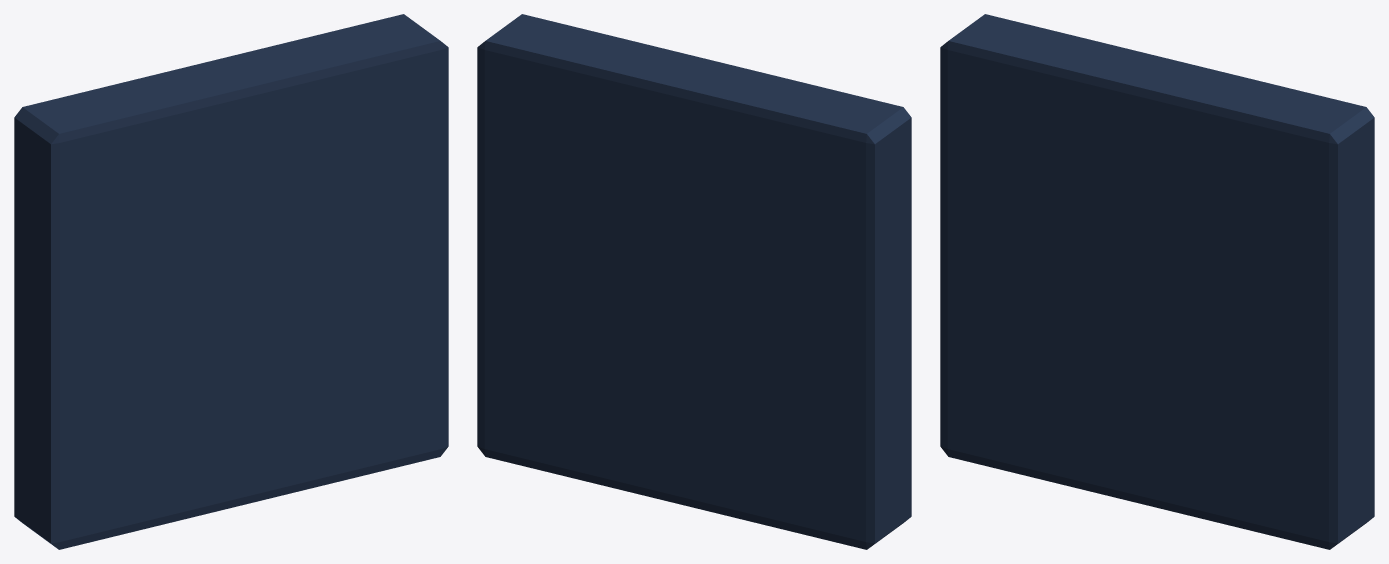
The model's file is 2xObstacle.fbx.
The picture shows the model from 3 angles, left to right: view 1: azimuth 30°, elevation 25°; view 2: azimuth 150°, elevation 25°; view 3: azimuth 330°, elevation 25°; orthographic projection.
Parts seen in each view (by area): view 1: 2xObstacle; view 2: 2xObstacle; view 3: 2xObstacle.
Boxes of the visible parts, x1,y1,x2,y2 form: 2xObstacle: (14,14,448,549); 2xObstacle: (477,14,911,549); 2xObstacle: (940,14,1374,549).
Bounding box in the file's own units: 1200 × 1200 × 200.
